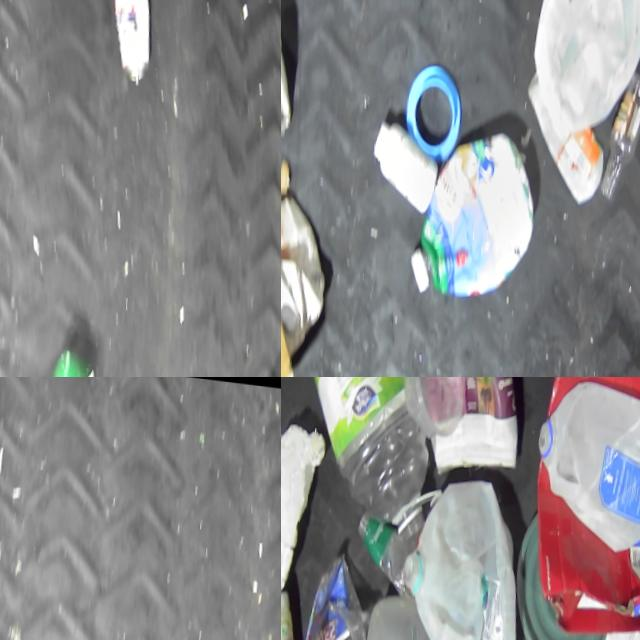can: (99, 0, 157, 86)
milk_jug: (385, 465, 530, 640), (524, 377, 640, 557), (518, 0, 640, 139), (339, 586, 502, 640)
non_white_jug: (398, 120, 539, 305)
plastic_bottle: (284, 377, 446, 547)
